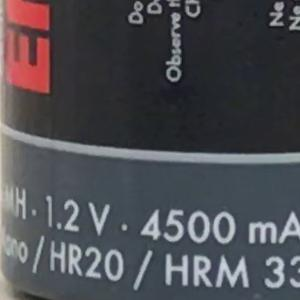HR20: (41, 240, 133, 282)
